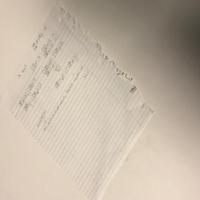paper: (0, 1, 156, 200)
